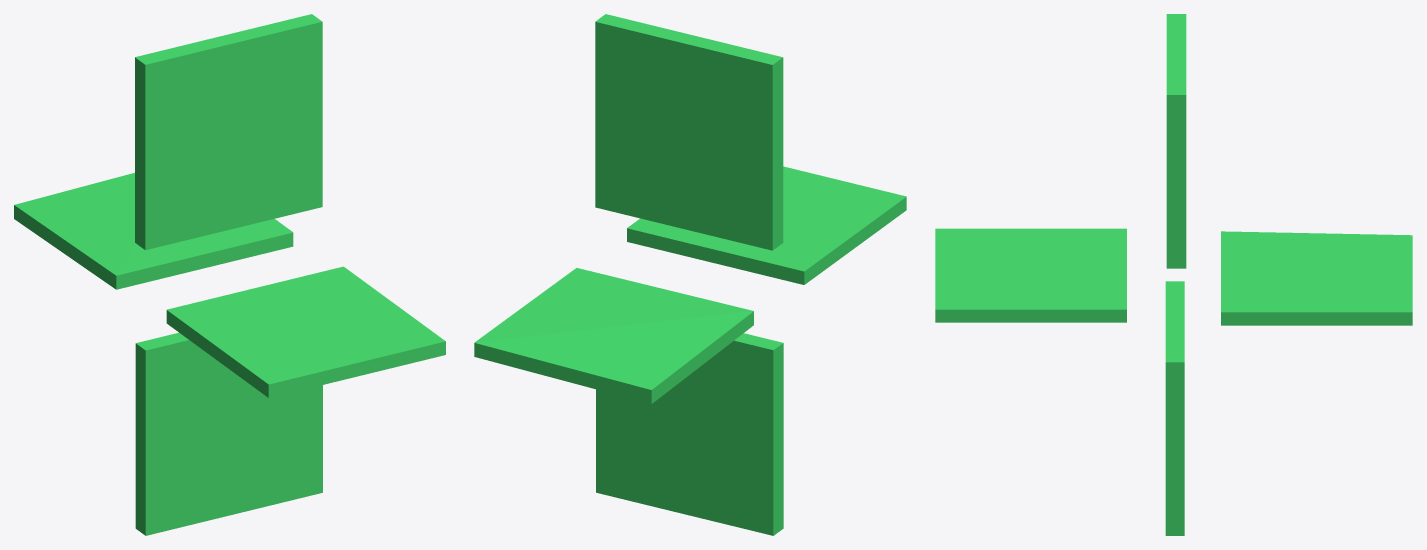
The model's file is crosshair.dae.
The picture shows the model from 3 angles, left to right: view 1: azimuth 30°, elevation 25°; view 2: azimuth 150°, elevation 25°; view 3: azimuth 270°, elevation 25°; orthographic projection. The views are drawn at different scales.
Visible parts, largest first — view 1: Cube; view 2: Cube; view 3: Cube.
Boxes of the visible parts, x1,y1,x2,y2 form: Cube: (14,14,445,535); Cube: (474,14,906,535); Cube: (935,14,1412,535).
Size of the model in its own units: 2 by 4.98 by 5.08.
